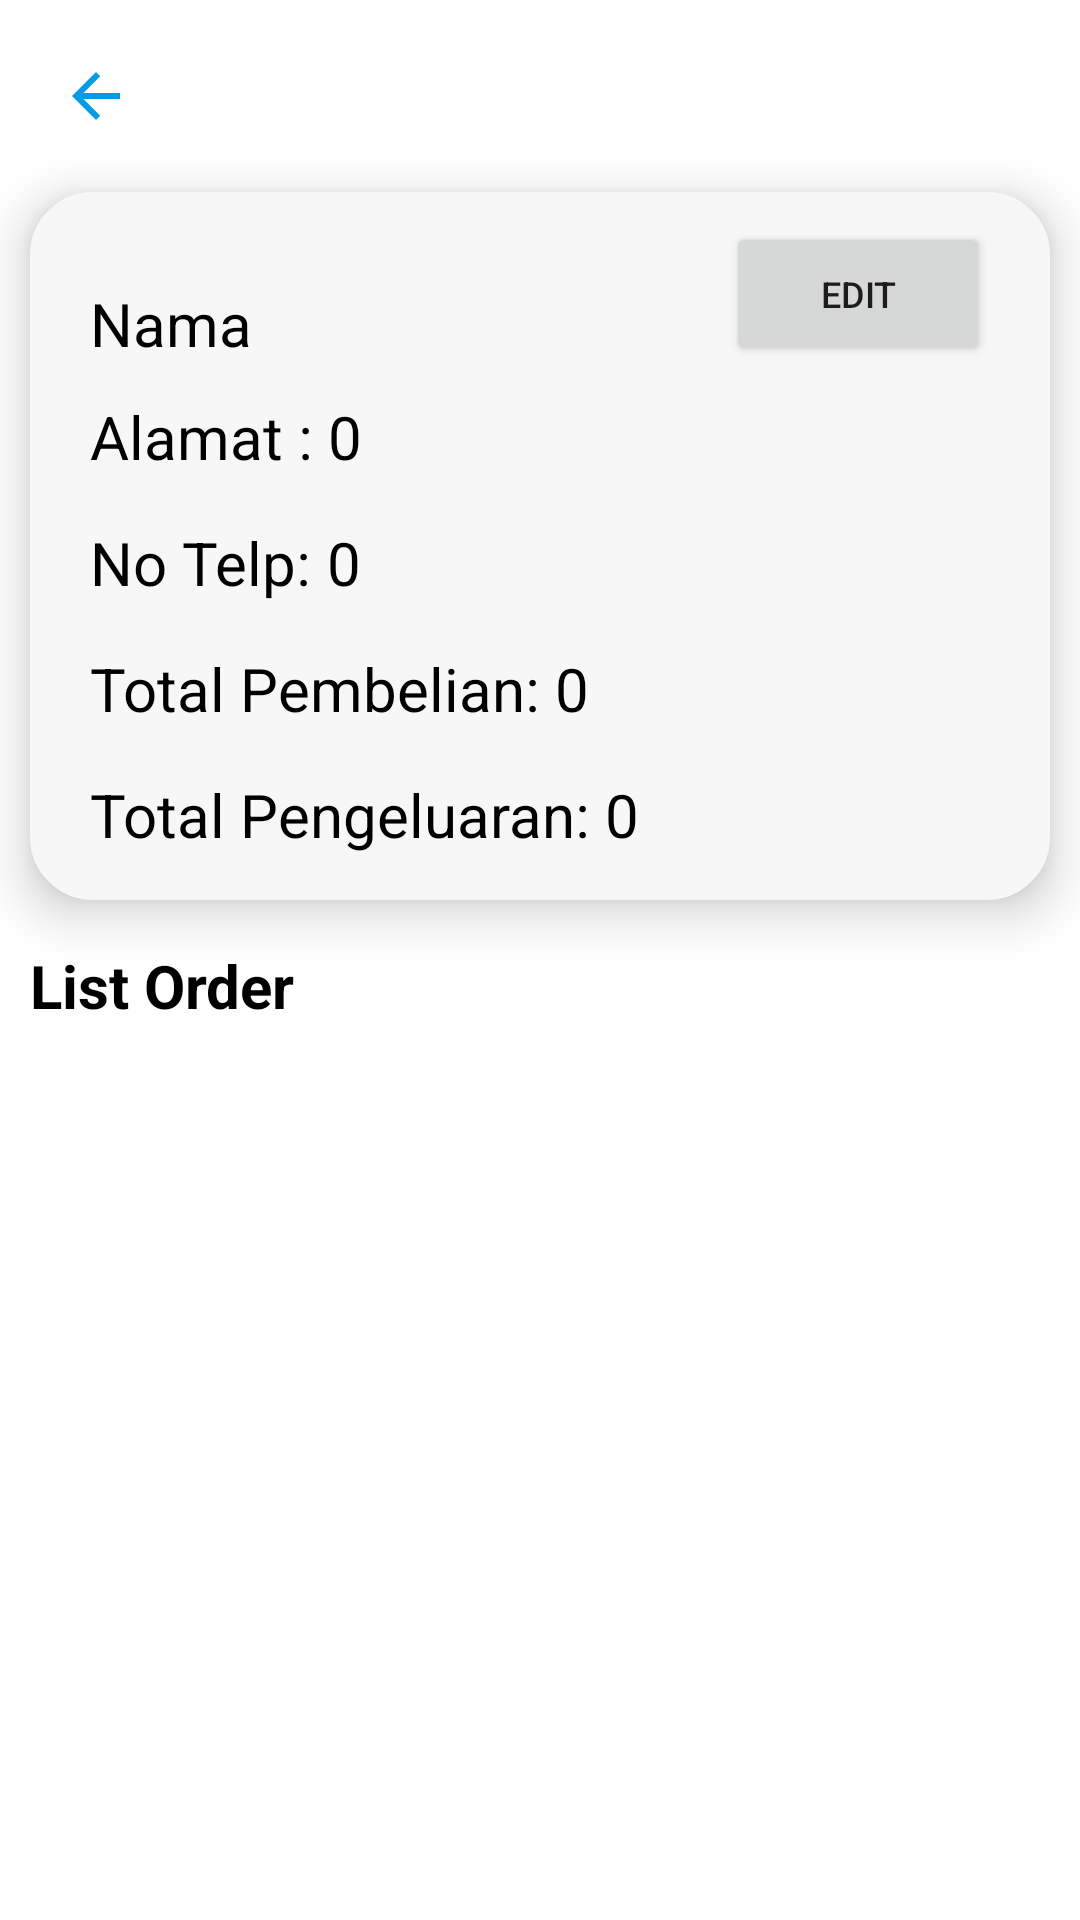

Locate icon controls on the screen. Image size 1080×1920, boxes as (x1, y1, x2, y2).
arrow back for frag: (72, 72, 120, 120)
